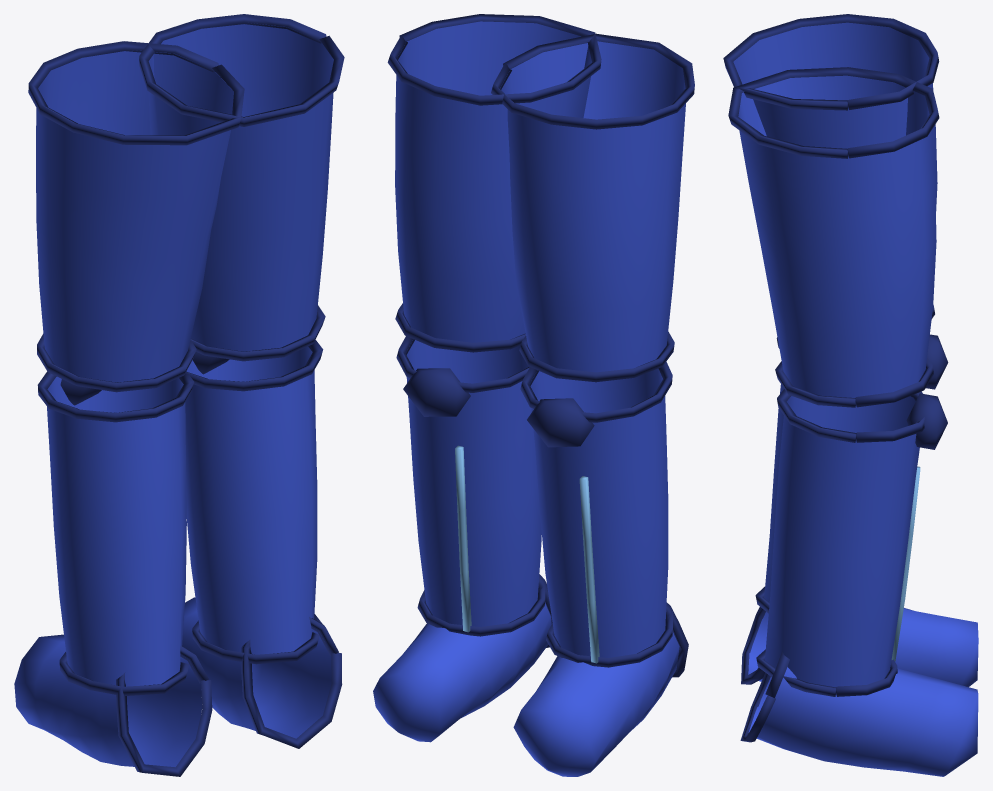
Rendered from shroomite_leggings.glb.
3 renders of one model, left to right at view 1: azimuth 30°, elevation 25°; view 2: azimuth 150°, elevation 25°; view 3: azimuth 270°, elevation 25°, orthographic. The views are drawn at different scales.
Visible parts, largest first — view 1: shroomite_leggings_cuisse.L; view 2: shroomite_leggings_cuisse.L; view 3: shroomite_leggings_cuisse.L.
Boxes of the visible parts, <box> form: shroomite_leggings_cuisse.L: <box>14,14,344,776</box>; shroomite_leggings_cuisse.L: <box>373,14,694,776</box>; shroomite_leggings_cuisse.L: <box>723,14,978,776</box>.
Size of the model in its own units: 0.4249 by 0.9563 by 0.3366.
